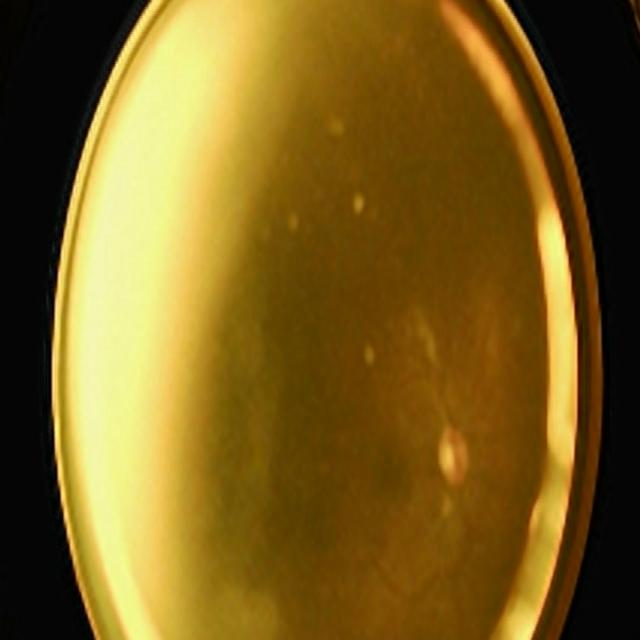optic-nerve: (413, 393, 491, 523)
